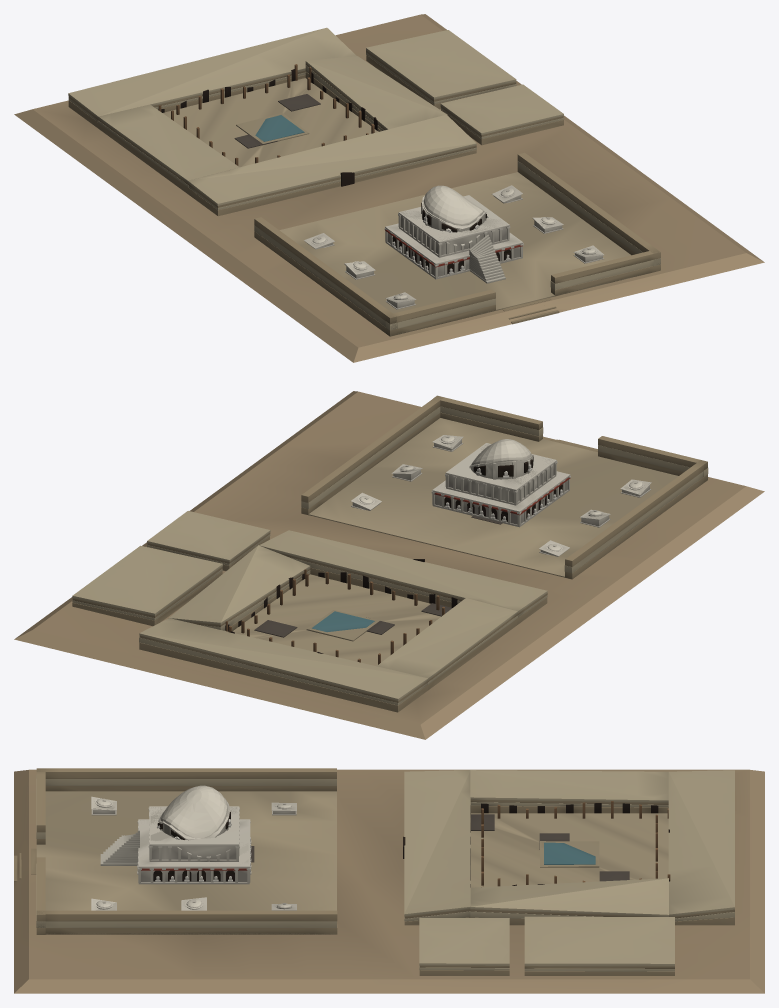
The model's file is mohra-moradu-ruin.glb.
3 renders of one model, top to bottom at view 1: azimuth 30°, elevation 25°; view 2: azimuth 150°, elevation 25°; view 3: azimuth 270°, elevation 25°, orthographic. The views are drawn at different scales.
Parts seen in each view (by area): view 1: p0_terrace, p3_monastery, p1_main stupa, p2_votive stupas; view 2: p0_terrace, p3_monastery, p1_main stupa, p2_votive stupas; view 3: p0_terrace, p3_monastery, p1_main stupa, p2_votive stupas.
Boxes of the visible parts, bbox=[...] form: p0_terrace: bbox=[14, 14, 764, 362]; p3_monastery: bbox=[68, 27, 564, 216]; p1_main stupa: bbox=[384, 185, 523, 283]; p2_votive stupas: bbox=[304, 185, 604, 309]; p0_terrace: bbox=[14, 391, 764, 739]; p3_monastery: bbox=[72, 511, 547, 712]; p1_main stupa: bbox=[431, 439, 570, 527]; p2_votive stupas: bbox=[351, 435, 651, 556]; p0_terrace: bbox=[14, 768, 764, 993]; p3_monastery: bbox=[251, 770, 734, 975]; p1_main stupa: bbox=[100, 785, 251, 884]; p2_votive stupas: bbox=[91, 796, 296, 910].
Bounding box in the file's own units: 70 × 11.52 × 100.
